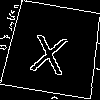X: (28, 24, 72, 76)
